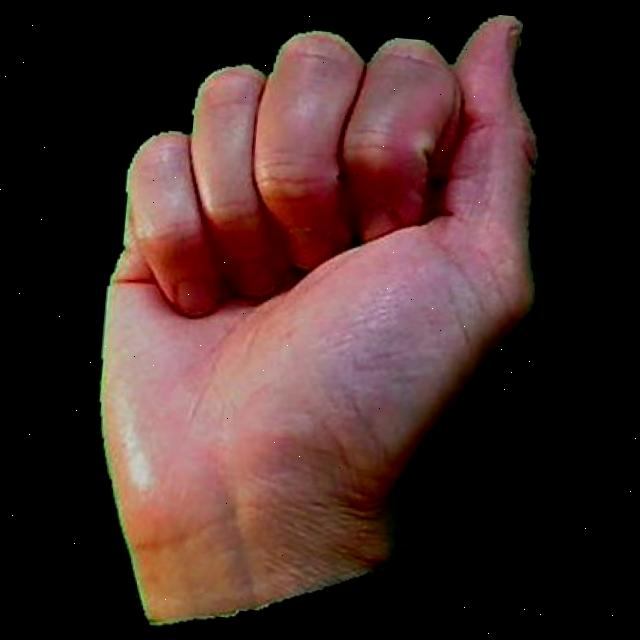a: (61, 0, 563, 640)
